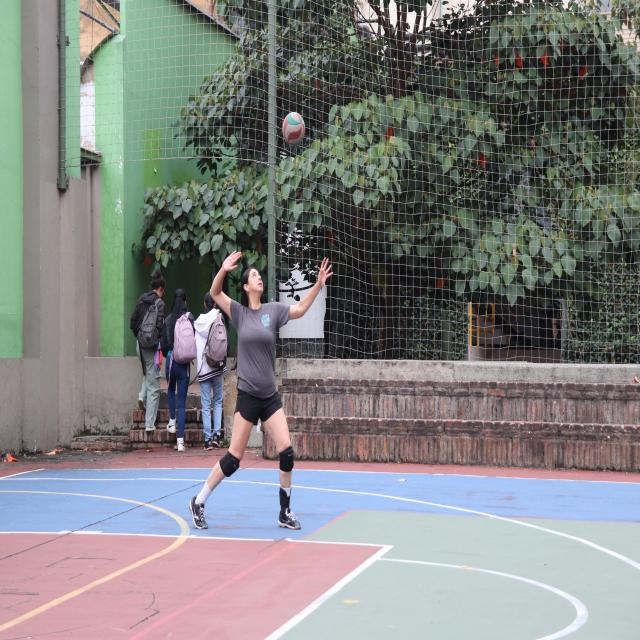volleyball: (282, 112, 305, 146)
